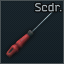Screwdriver: (0, 0, 64, 64)
